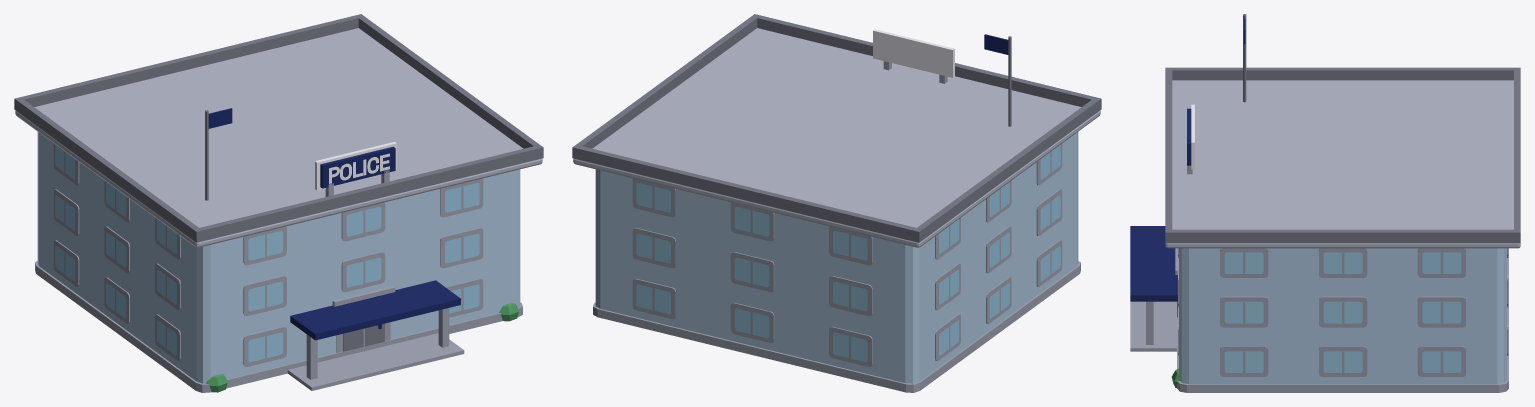
Rendered from police-station-2x2-3f.glb.
3 views of the same model, side by side, from view 1: azimuth 30°, elevation 25°; view 2: azimuth 150°, elevation 25°; view 3: azimuth 270°, elevation 25° (orthographic). The views are drawn at different scales.
Parts seen in each view (by area): view 1: police-station-2x2-3f; view 2: police-station-2x2-3f; view 3: police-station-2x2-3f.
Part boxes in pixels (box(x1,y1,x2,y2)): police-station-2x2-3f: box(14, 14, 543, 392); police-station-2x2-3f: box(572, 14, 1101, 392); police-station-2x2-3f: box(1130, 14, 1520, 392).
Size of the model in its own units: 2 by 1.37 by 2.
1 material, 1 textured.
